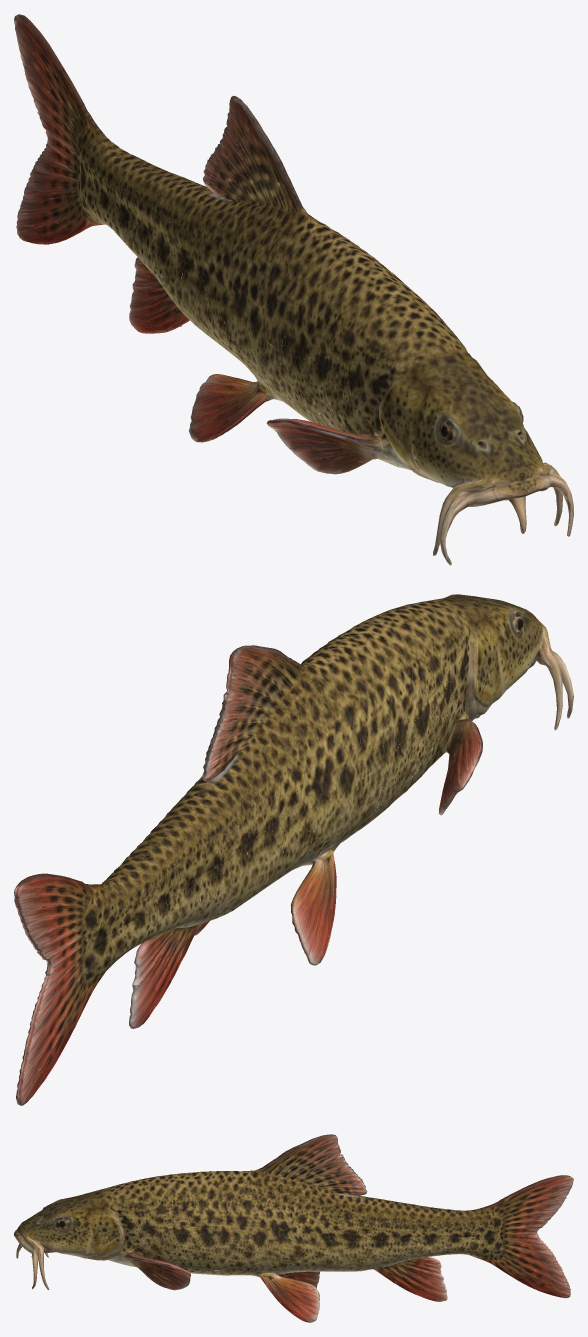
The model's file is brzanka.glb.
3 renders of one model, top to bottom at view 1: azimuth 30°, elevation 25°; view 2: azimuth 150°, elevation 25°; view 3: azimuth 270°, elevation 25°, orthographic. The views are drawn at different scales.
Visible parts, largest first — view 1: Mesh_0; view 2: Mesh_0; view 3: Mesh_0.
Boxes of the visible parts, x1,y1,x2,y2 form: Mesh_0: (14,14,573,565); Mesh_0: (14,594,573,1105); Mesh_0: (14,1134,573,1322).
Bounding box in the file's own units: 0.4295 × 0.6456 × 1.9.
1 material, 1 textured.
